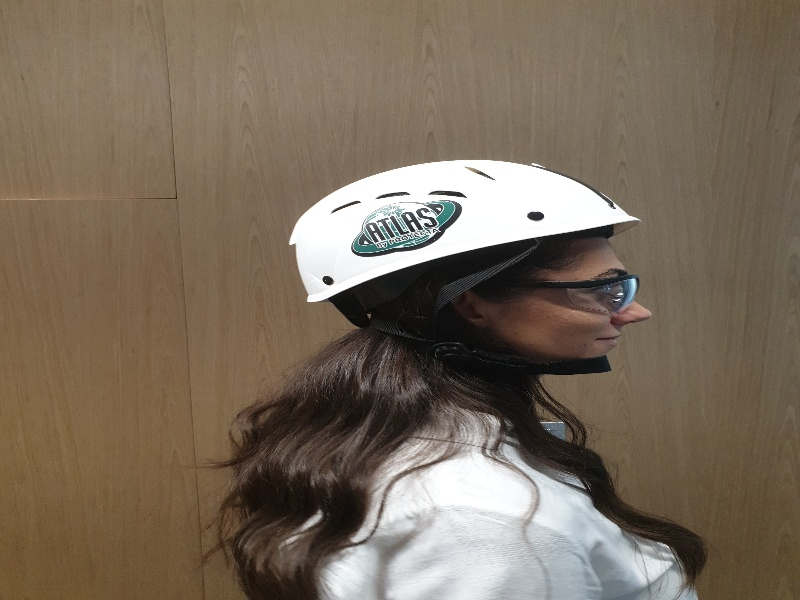Baret: (287, 157, 642, 286)
Gozluk: (495, 276, 644, 309)
